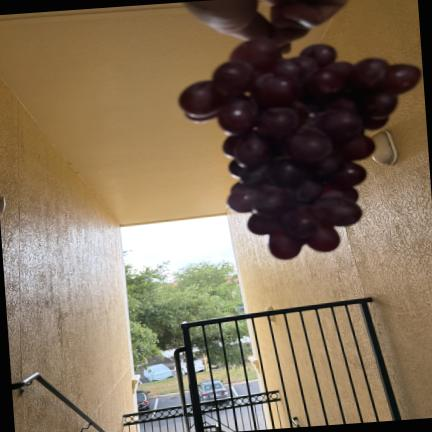grape_cluster: (179, 40, 420, 259)
